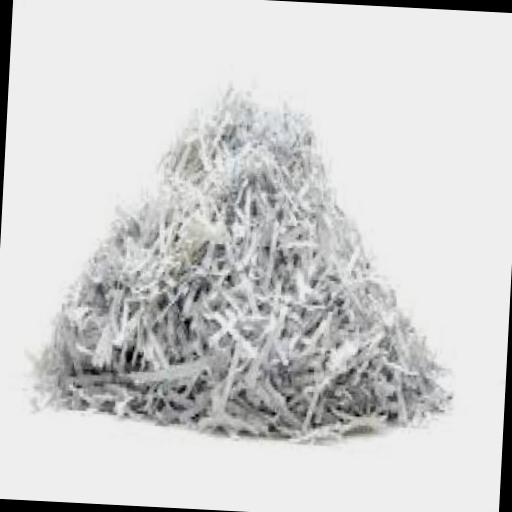paper: (26, 70, 465, 447)
